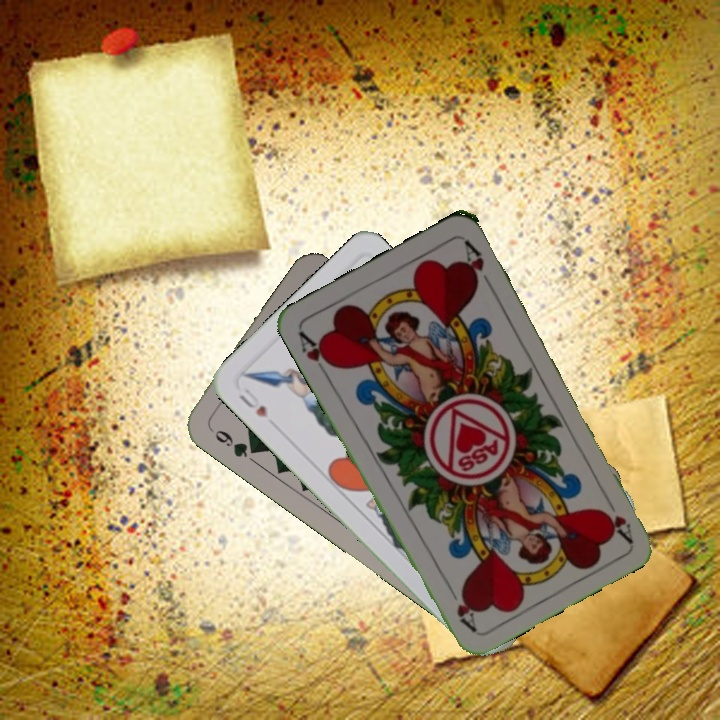G9: (210, 425, 262, 460)
HA: (294, 327, 337, 381), (601, 489, 635, 545)
HU: (235, 382, 271, 420)
